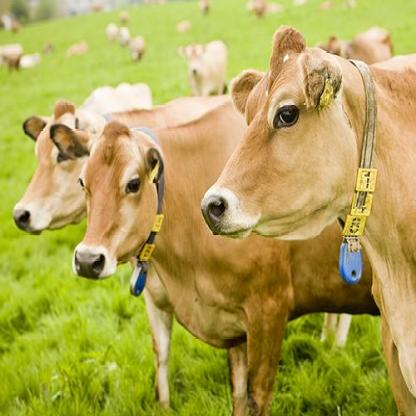cow: (48, 95, 380, 416), (199, 24, 416, 416), (11, 94, 231, 416), (315, 23, 394, 63), (177, 38, 229, 96), (0, 42, 24, 73), (128, 35, 146, 65), (66, 37, 89, 55), (20, 52, 40, 69), (198, 0, 211, 19), (40, 40, 54, 55)
